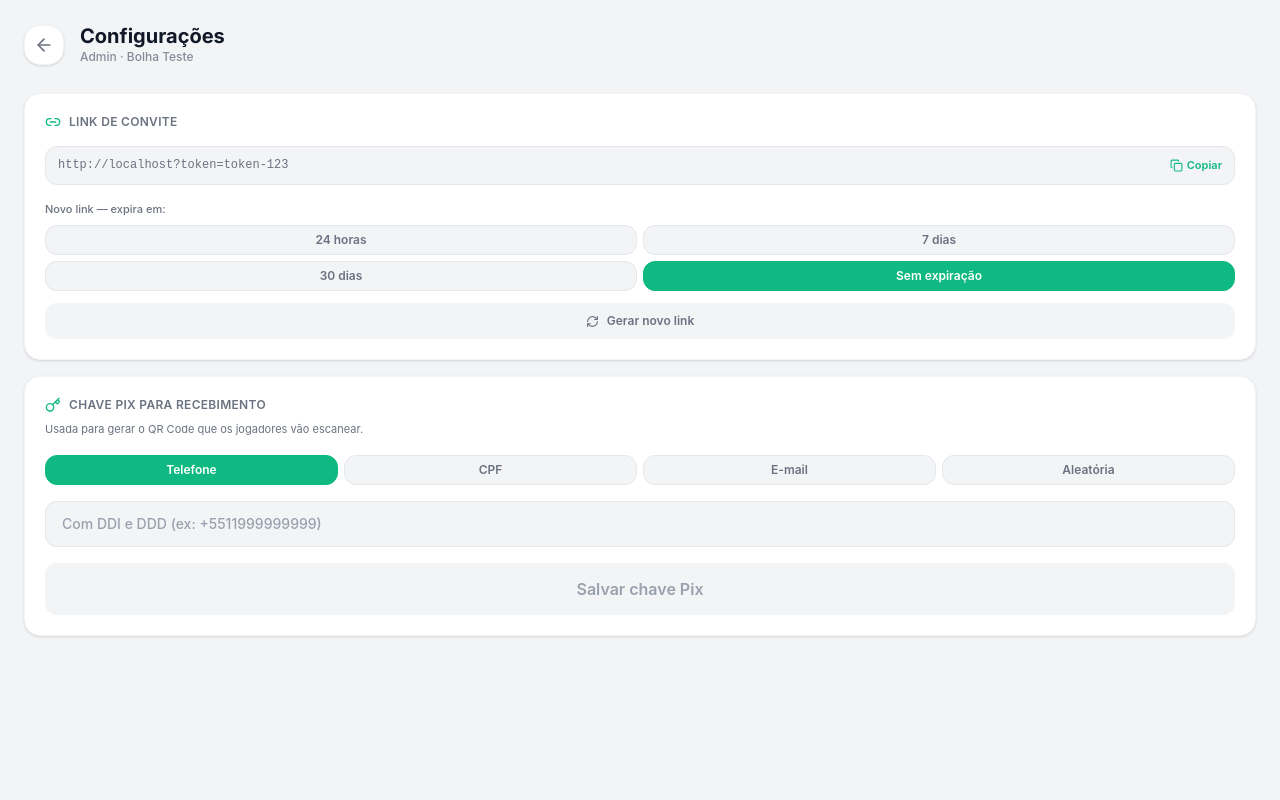
AdminSettings Component › saves PIX key successfully
Type "+5511999999999" into the field with placeholder "Com DDI e DDD (ex: +5511999999999)" at [640, 524], box [45,501,1235,547]
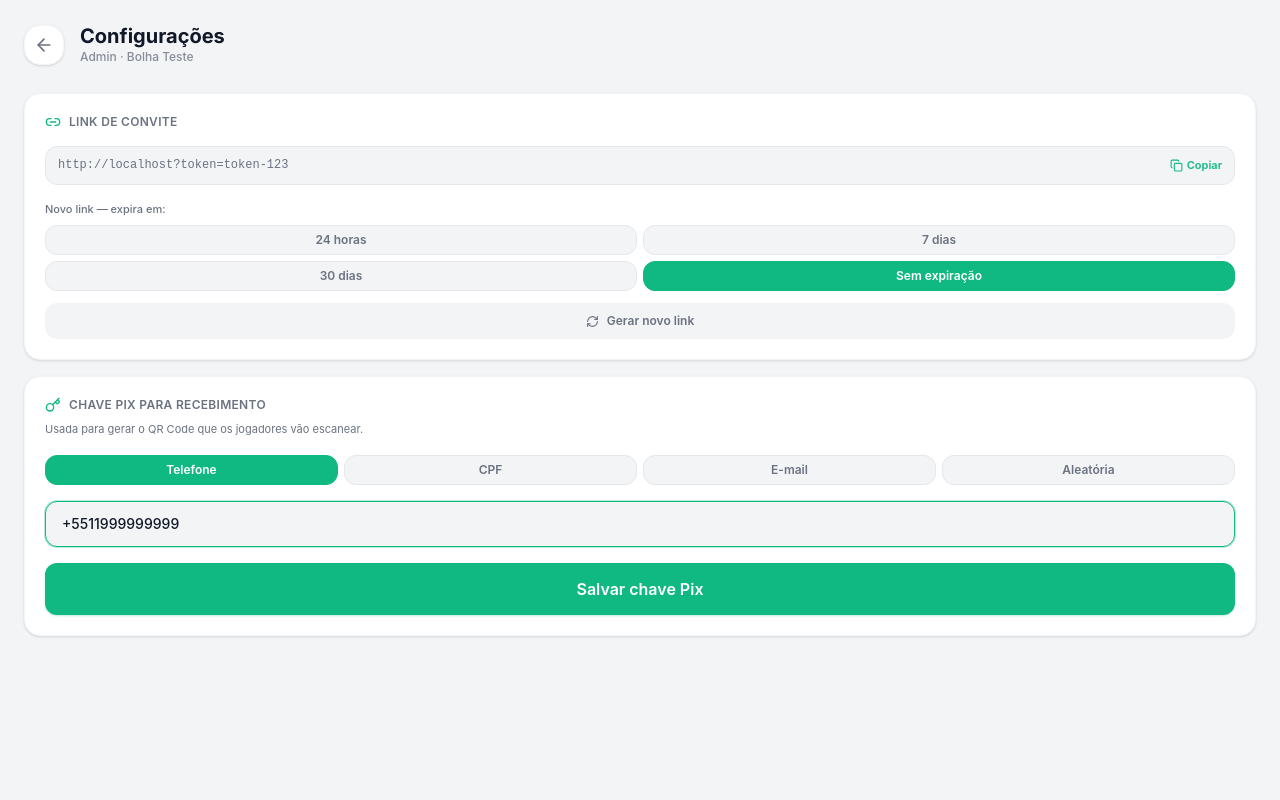
Result: the button "Salvar chave Pix" is enabled
Click the button "Salvar chave Pix" at [640, 589], box [45,563,1235,615]
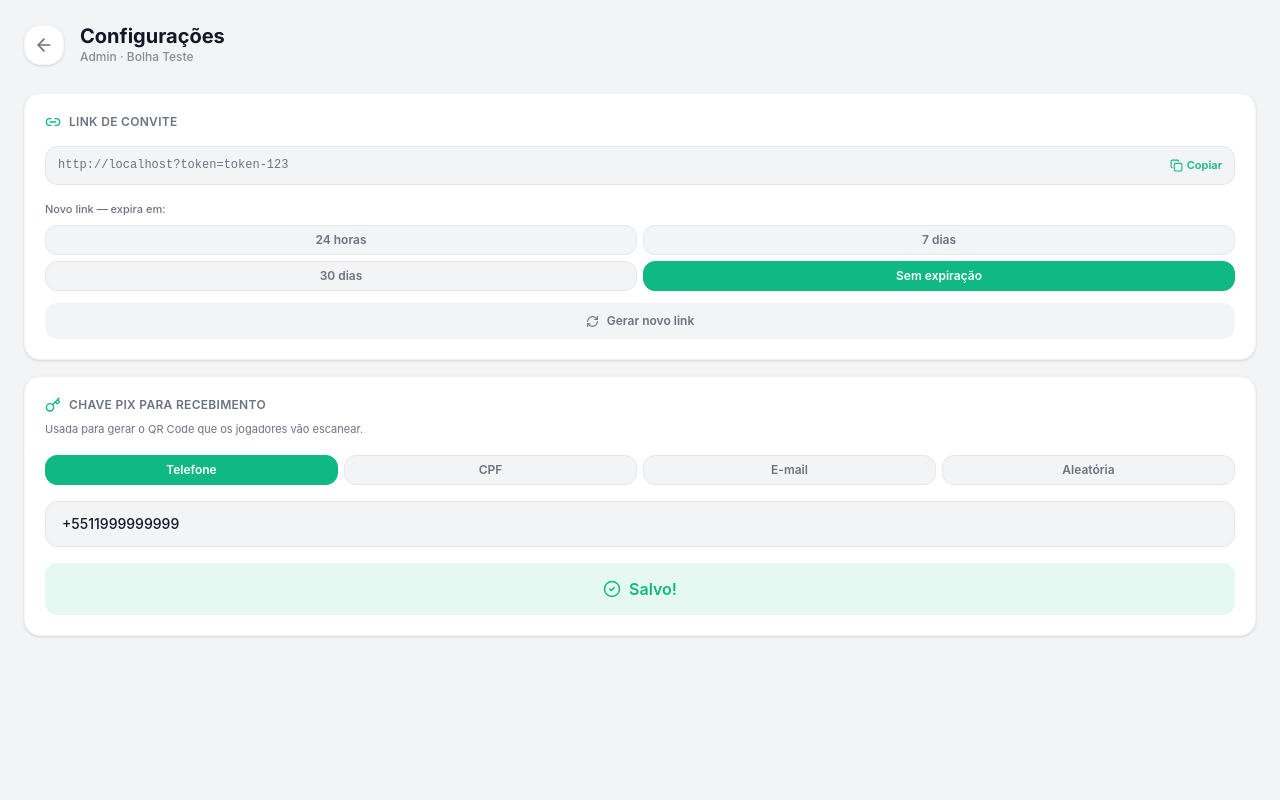
Result: the button "Salvo!" is shown at [45,563,1235,615]
